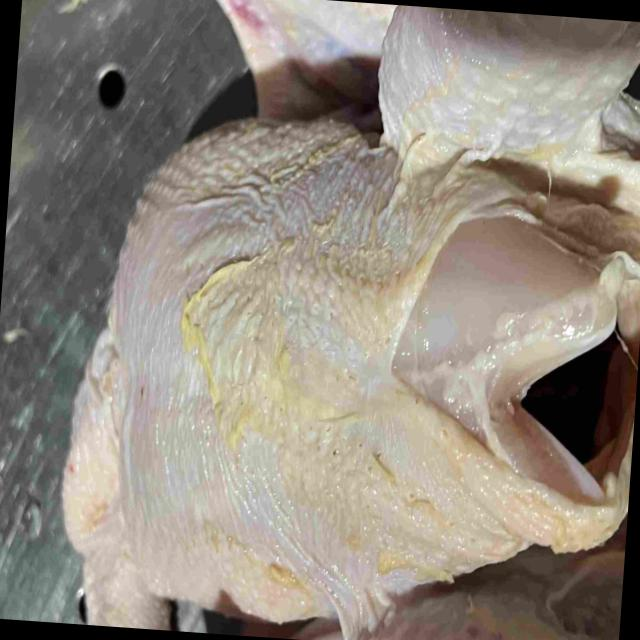breast: (115, 117, 600, 621)
leg: (371, 5, 640, 172)
neck: (62, 340, 165, 630)
wing: (217, 0, 406, 122)
